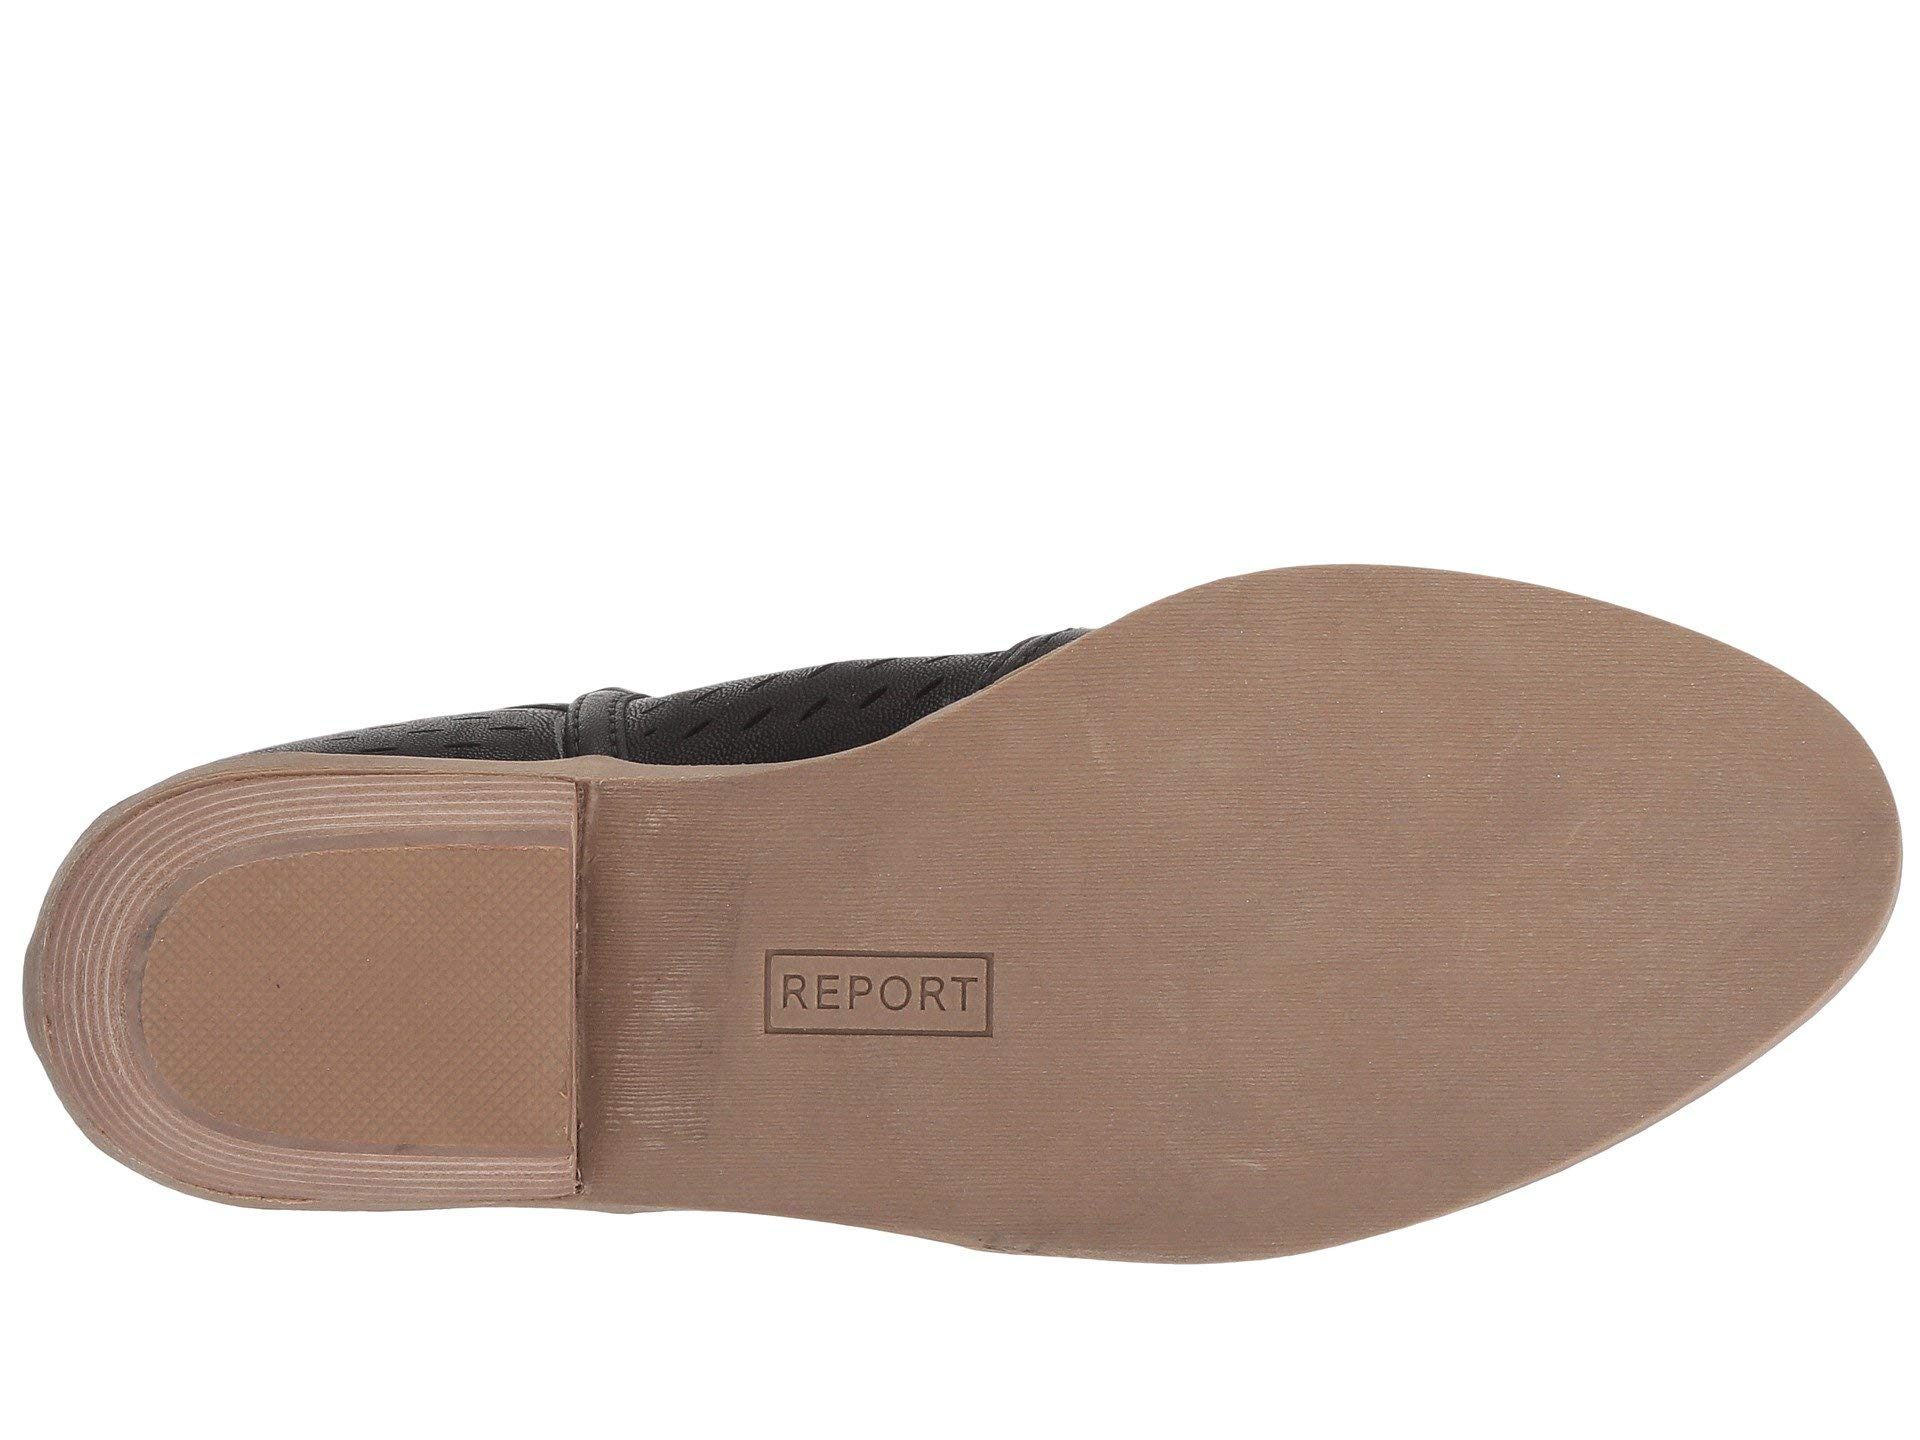circle: (720, 902, 1058, 1098)
exclude: (39, 454, 1167, 790)
quad: (720, 902, 1058, 1098), (265, 917, 525, 1134)
text: (720, 902, 1058, 1098)
